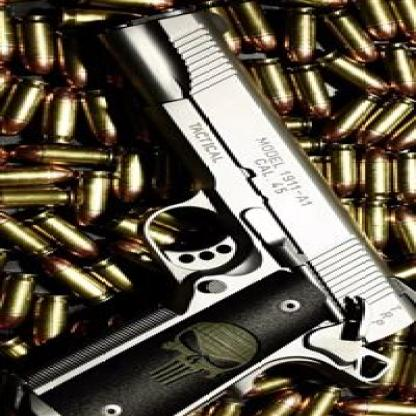handgun: (14, 7, 416, 416)
